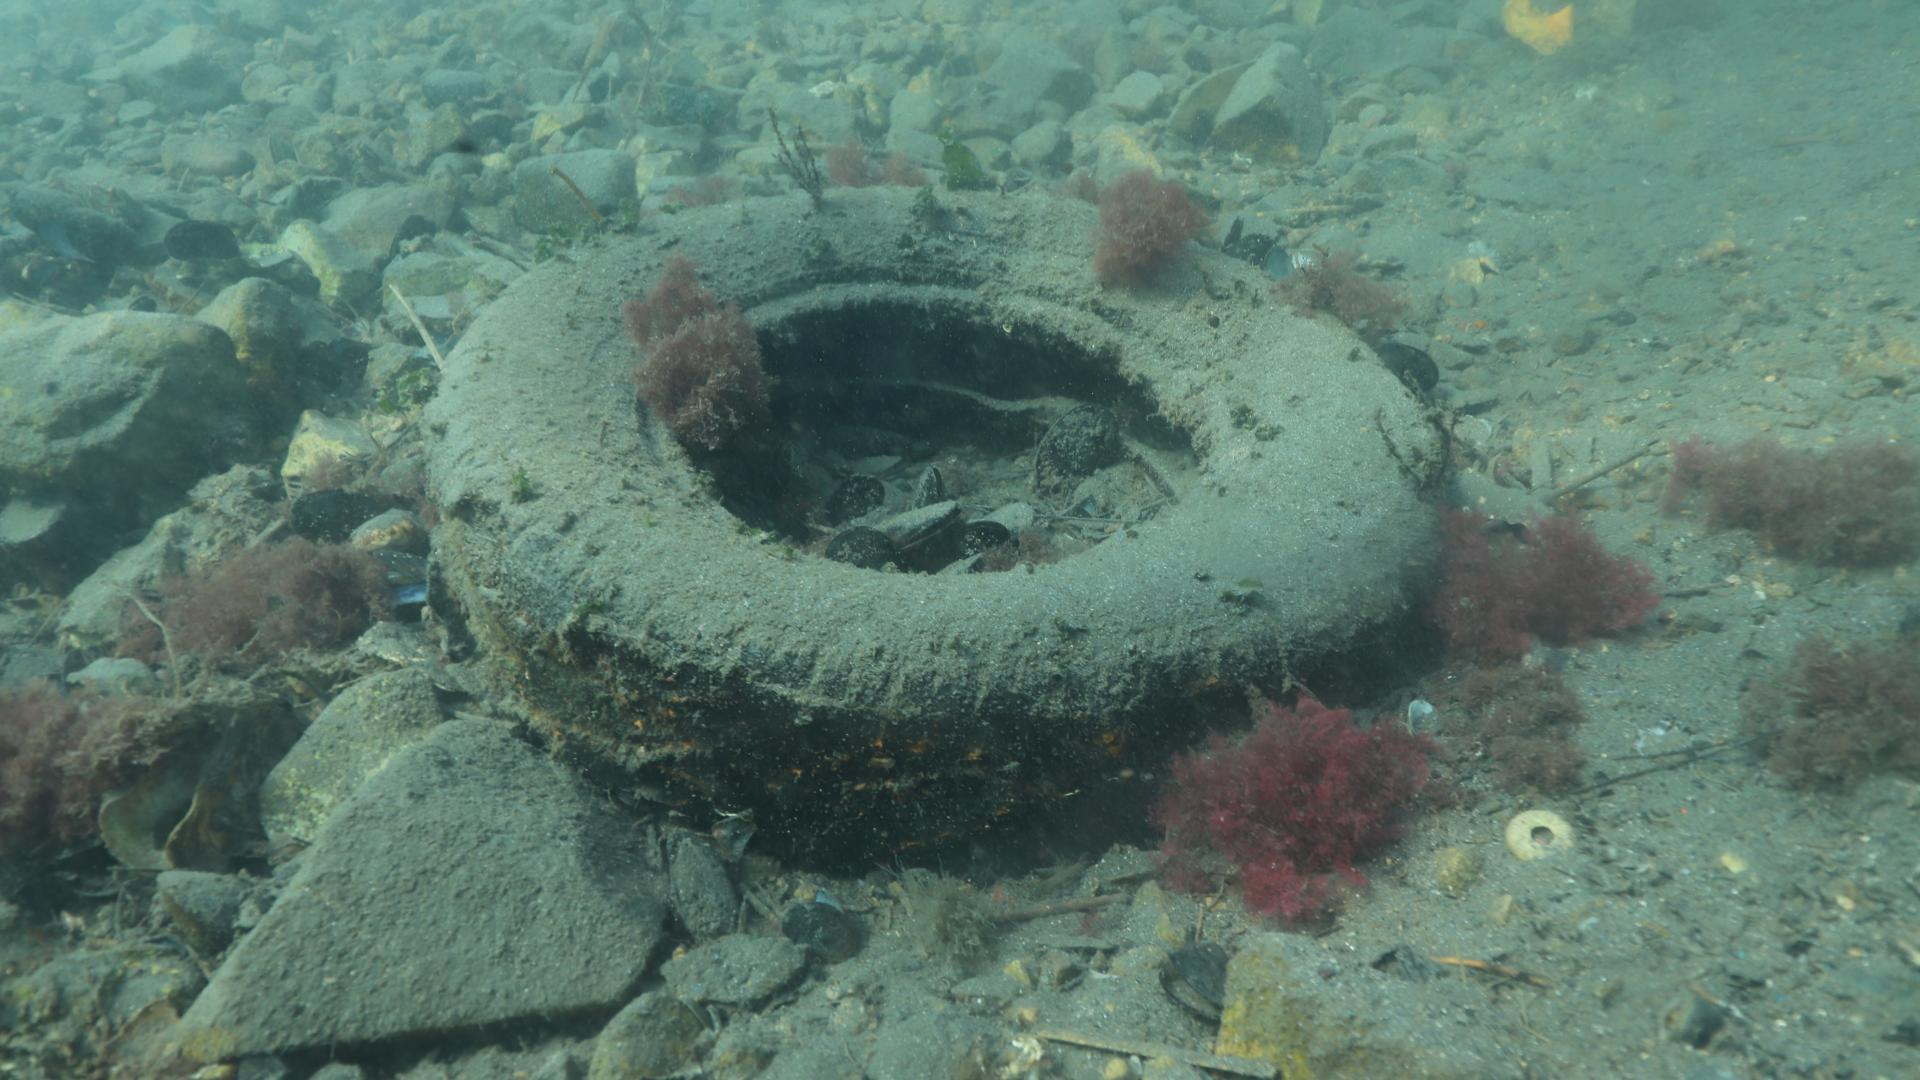tire: (427, 181, 1444, 861)
